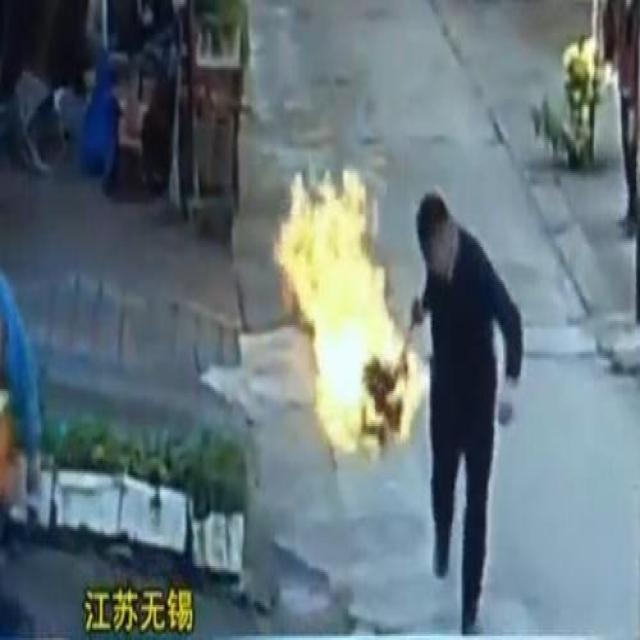Fire: (270, 162, 430, 453)
Smoke: (502, 366, 638, 626)
